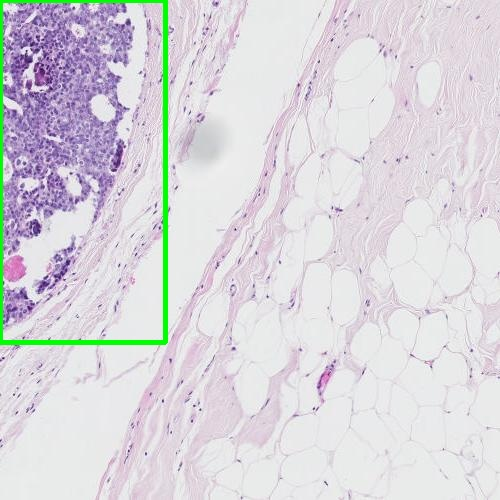DCIS: (0, 0, 165, 342)
